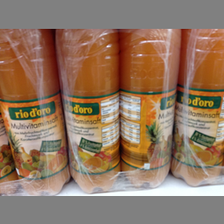juice: (1, 29, 70, 193), (55, 29, 121, 190), (120, 29, 182, 189), (170, 29, 223, 186)
